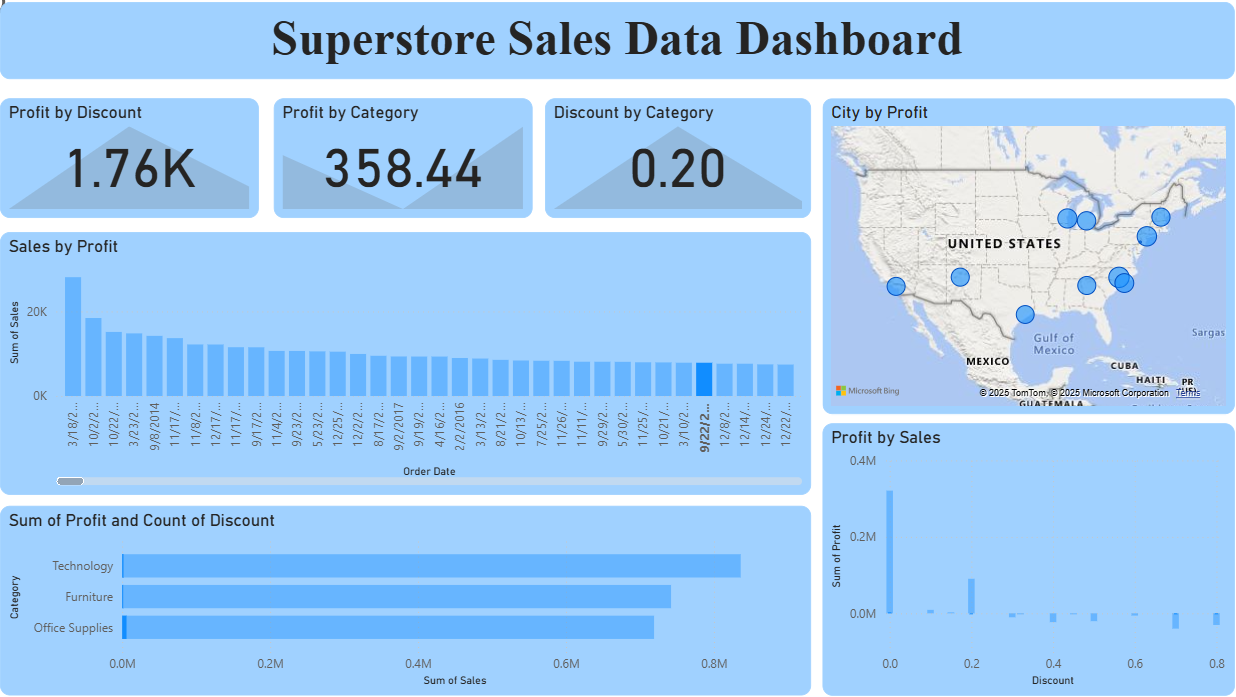

What the dashboard file says about the page in this screenshot:
{"tool":"powerbi","page":{"name":"Page 1","canvas":[1280,720],"ordinal":0},"visuals":[{"type":"kpi","title":"Profit by Discount","fields":{"Indicator":["Sum(Superstore Data.Sales)"],"TrendLine":["Superstore Data.Category"]},"box":[29.9,115.7,257.5,119.4],"z":0},{"type":"actionButton","box":[0,0,100,40],"z":1000},{"type":"clusteredColumnChart","title":"Sales by Profit","fields":{"Category":["Superstore Data.Order Date"],"Y":["Sum(Superstore Data.Sales)"]},"box":[29.9,248.8,807.3,261.2],"z":2000},{"type":"map","title":"City by Profit","fields":{"Category":["Superstore Data.City"],"Size":["Sum(Superstore Data.Profit)"]},"box":[848.4,115.7,410.5,314.7],"z":3000},{"type":"columnChart","title":"Profit by Sales","fields":{"Category":["Superstore Data.Discount"],"Y":["Sum(Superstore Data.Profit)"]},"box":[848.4,439.1,410.5,271.2],"z":4000},{"type":"clusteredBarChart","title":"Sum of Profit and Count of Discount","fields":{"Y":["Sum(Superstore Data.Sales)"],"Category":["Superstore Data.Category"]},"box":[29.9,521.2,807.3,189.1],"z":5000},{"type":"textbox","box":[29.9,19.9,1229,77.1],"z":6000},{"type":"kpi","title":"Profit by Category","fields":{"Indicator":["Sum(Superstore Data.Profit)"],"TrendLine":["Superstore Data.Category"]},"box":[302.3,115.7,257.5,119.4],"z":6001},{"type":"kpi","title":"Discount by Category","fields":{"Indicator":["Sum(Superstore Data.Discount)"],"TrendLine":["Superstore Data.Category"]},"box":[572.2,115.7,265,119.4],"z":6002}]}

Visuals, with their boxes in screenshot pixels (x1, y1, x2, y2), scaled from the page's 1280x720 canvas onto the 1236x697 screenshot:
"Profit by Discount" kpi: 29,112,278,228
actionButton: 0,0,97,39
"Sales by Profit" clusteredColumnChart: 29,241,808,494
"City by Profit" map: 819,112,1216,417
"Profit by Sales" columnChart: 819,425,1216,688
"Sum of Profit and Count of Discount" clusteredBarChart: 29,505,808,688
textbox: 29,19,1216,94
"Profit by Category" kpi: 292,112,541,228
"Discount by Category" kpi: 553,112,808,228
